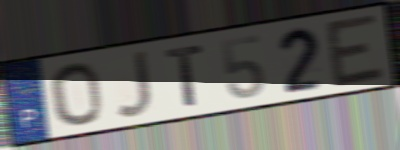2: (272, 22, 328, 99)
5: (218, 32, 266, 101)
E: (323, 11, 389, 91)
J: (113, 48, 155, 120)
O: (47, 60, 105, 127)
T: (163, 41, 207, 109)
